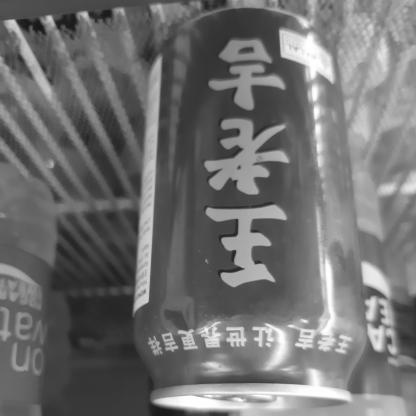alumunium_can: (86, 0, 387, 416)
